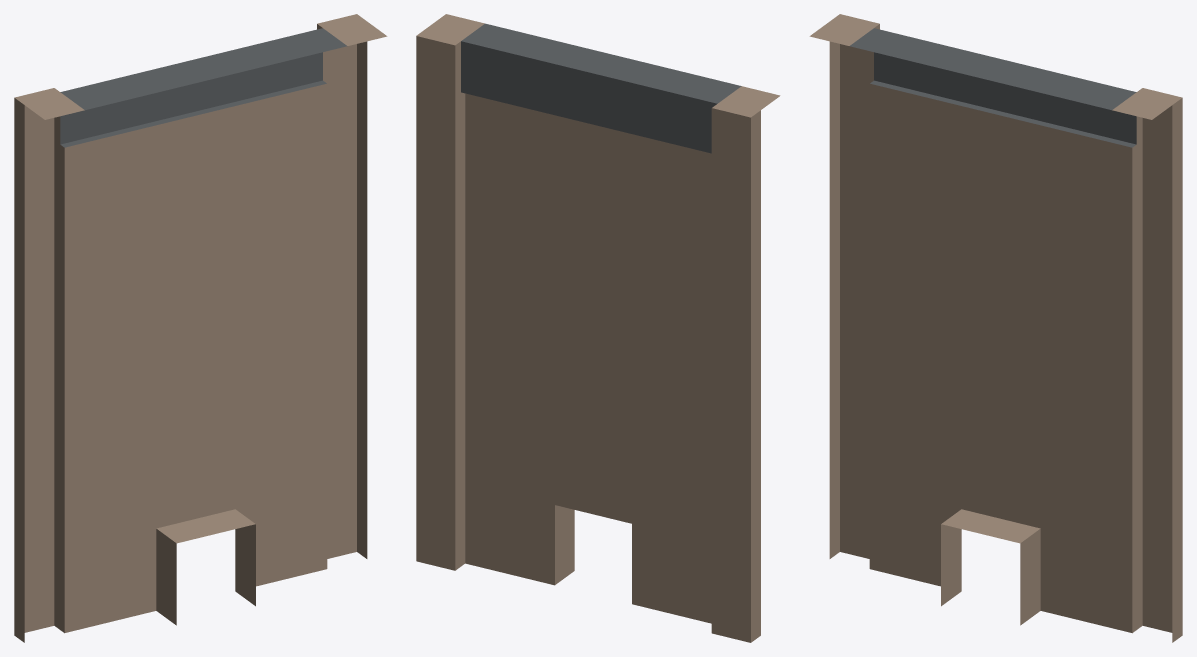
Rendered from Pillar_rathole.fbx.
The picture shows the model from 3 angles, left to right: view 1: azimuth 30°, elevation 25°; view 2: azimuth 150°, elevation 25°; view 3: azimuth 330°, elevation 25°; orthographic projection. The views are drawn at different scales.
Parts seen in each view (by area): view 1: Wall_1.003; view 2: Wall_1.003; view 3: Wall_1.003.
Boxes of the visible parts, <box> form: Wall_1.003: <box>14,14,387,642</box>; Wall_1.003: <box>416,14,780,642</box>; Wall_1.003: <box>809,14,1182,642</box>.
Size of the model in its own units: 200 by 300 by 31.
